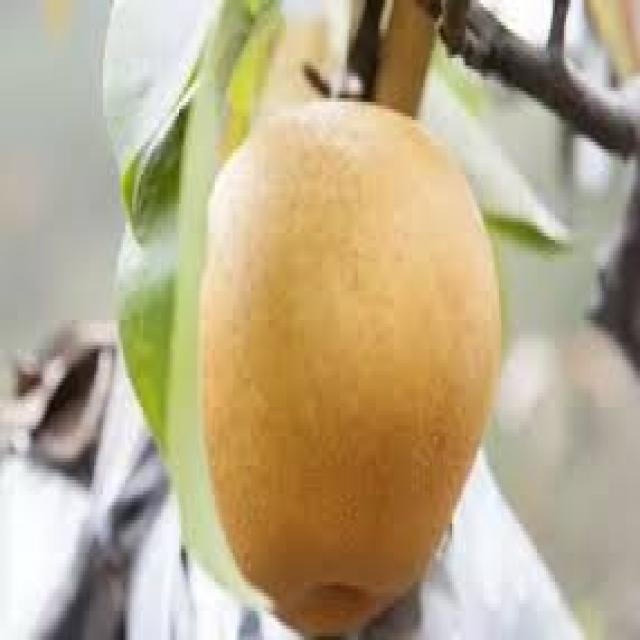organic waste: (197, 91, 499, 636)
